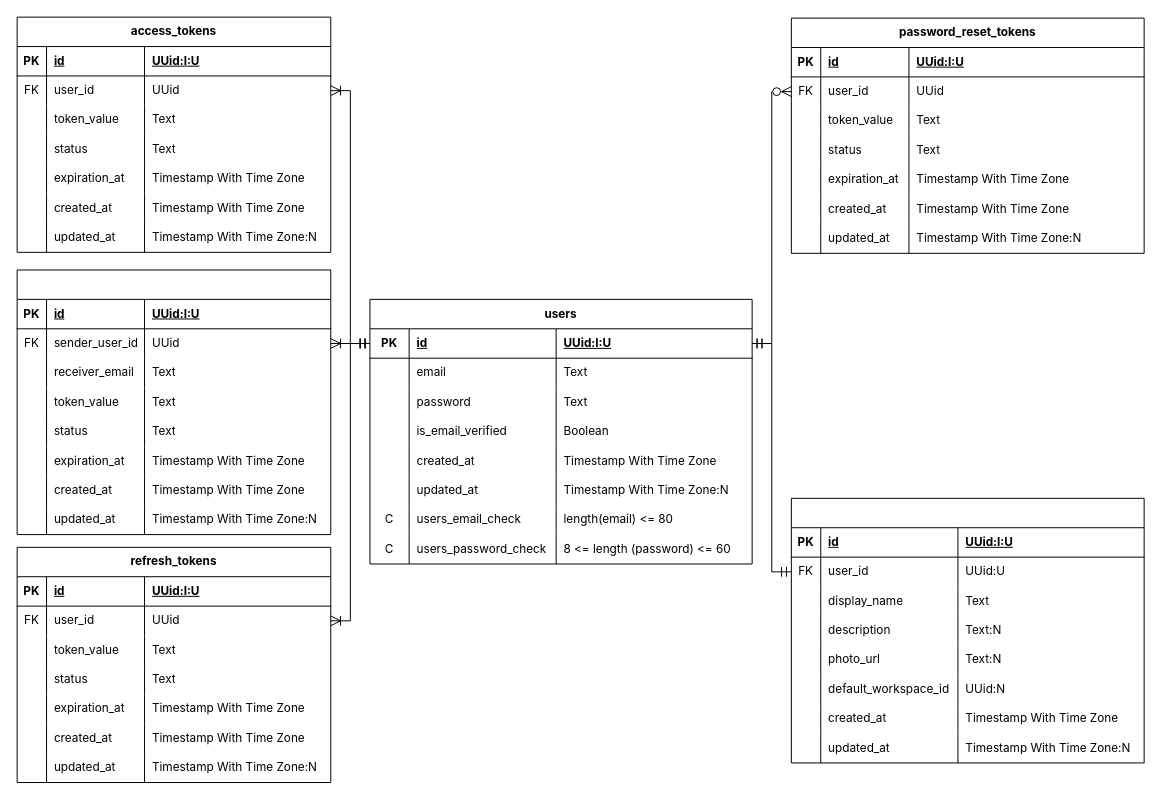
Image size: 1161x800. Some labels were removed from this diagram. The shapes that lost their labels are listed below. From the top down, each one's box as (x1, y1, x2, y2) in pixels, then its label:
(16, 269, 331, 535): email_confirmation_tokens
(790, 497, 1144, 763): user_profiles
